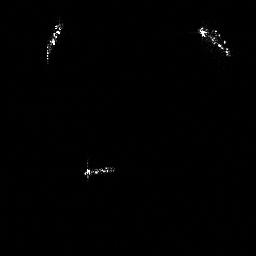ship: (197, 25, 233, 58), (44, 19, 65, 65), (83, 160, 117, 180)
